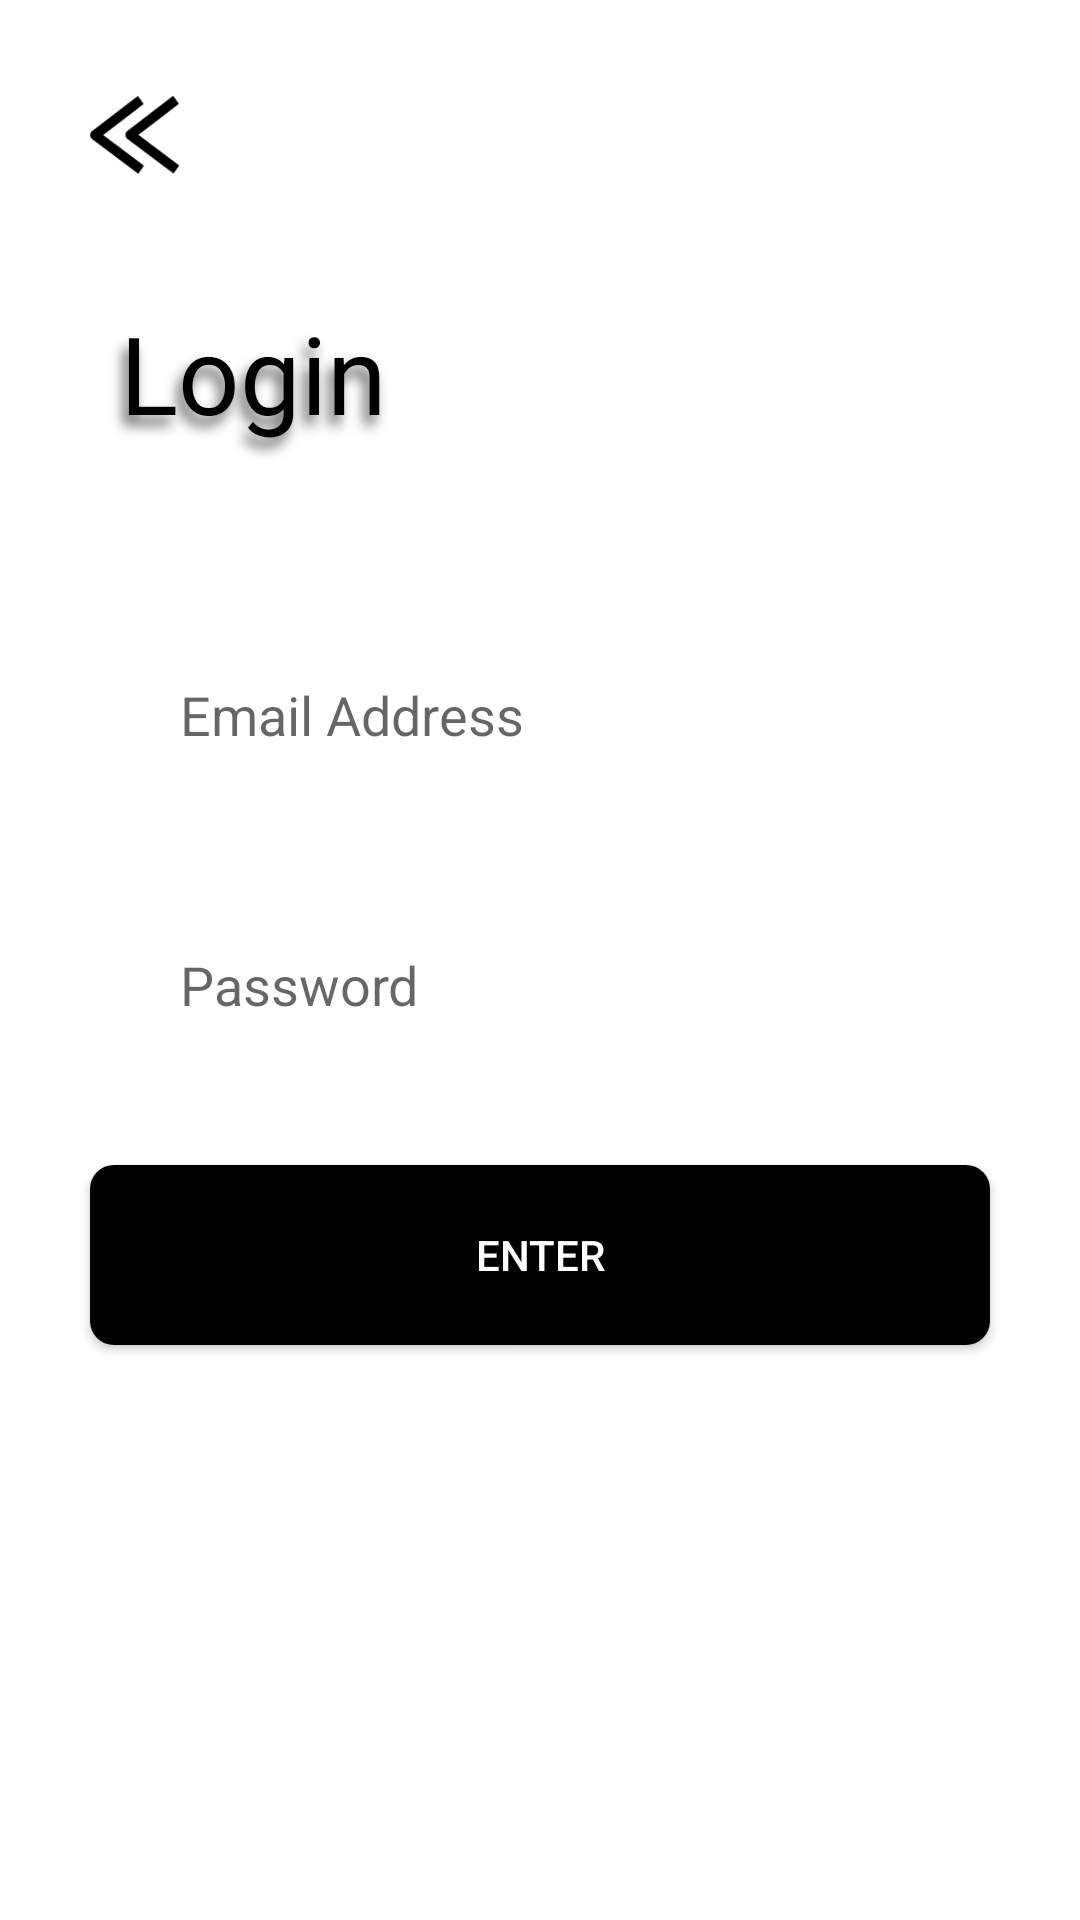

Screen size 1080px x 1920px. Icon name, then its center in pixels as (x,y):
back: (134,135)
